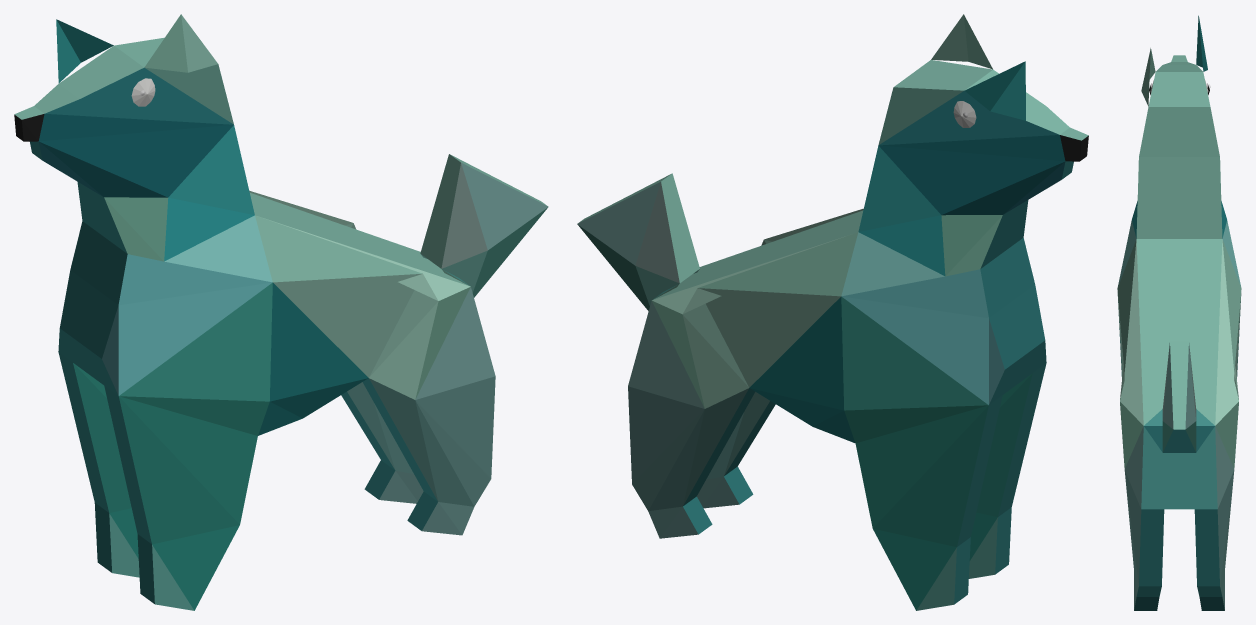
File: anjing.glb
The picture shows the model from 3 angles, left to right: view 1: azimuth 30°, elevation 25°; view 2: azimuth 150°, elevation 25°; view 3: azimuth 270°, elevation 25°; orthographic projection. The views are drawn at different scales.
Parts seen in each view (by area): view 1: anjing; view 2: anjing; view 3: anjing.
Boxes of the visible parts, x1,y1,x2,y2 form: anjing: [14, 14, 548, 610]; anjing: [577, 14, 1088, 610]; anjing: [1117, 15, 1241, 610].
Bounding box in the file's own units: 0.218 × 0.2332 × 0.0562.
